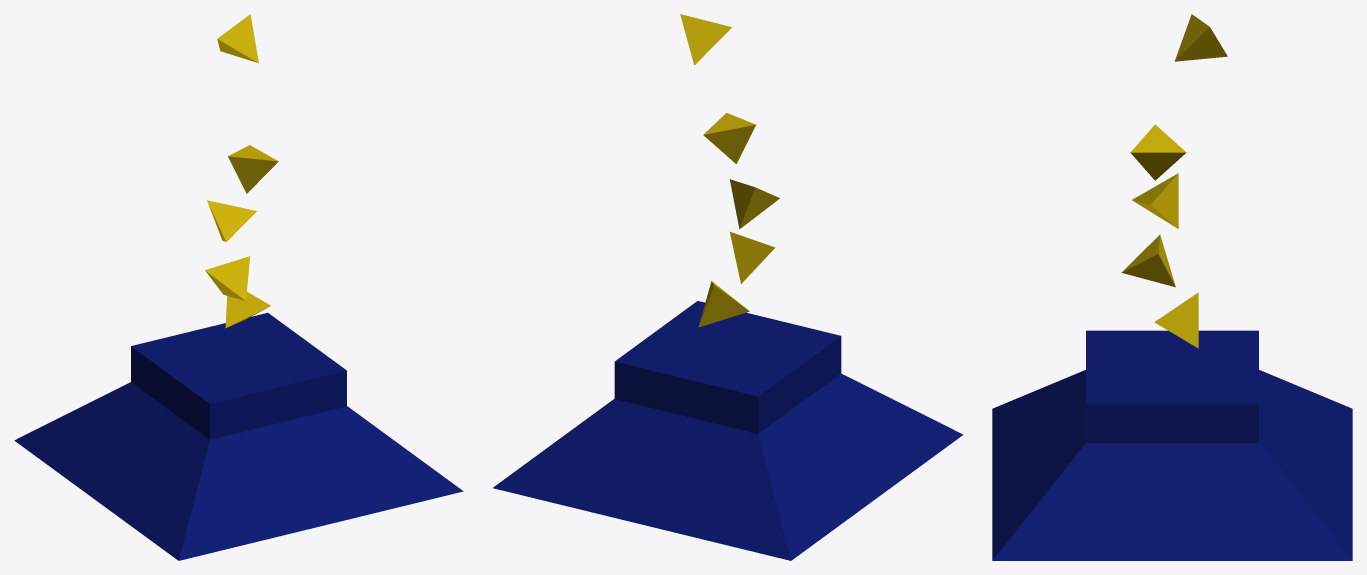
The model's file is INVISIBLE_ZCPFXCONTROLER.OBJ.
3 renders of one model, left to right at view 1: azimuth 30°, elevation 25°; view 2: azimuth 150°, elevation 25°; view 3: azimuth 270°, elevation 25°, orthographic. The views are drawn at different scales.
Parts seen in each view (by area): view 1: INVISIBLE_ZCPFXCONTROLER; view 2: INVISIBLE_ZCPFXCONTROLER; view 3: INVISIBLE_ZCPFXCONTROLER.
Boxes of the visible parts, x1,y1,x2,y2 form: INVISIBLE_ZCPFXCONTROLER: (14,14,463,560); INVISIBLE_ZCPFXCONTROLER: (493,14,962,560); INVISIBLE_ZCPFXCONTROLER: (992,14,1352,560).
Bounding box in the file's own units: 0.832 × 1.21 × 0.832.
